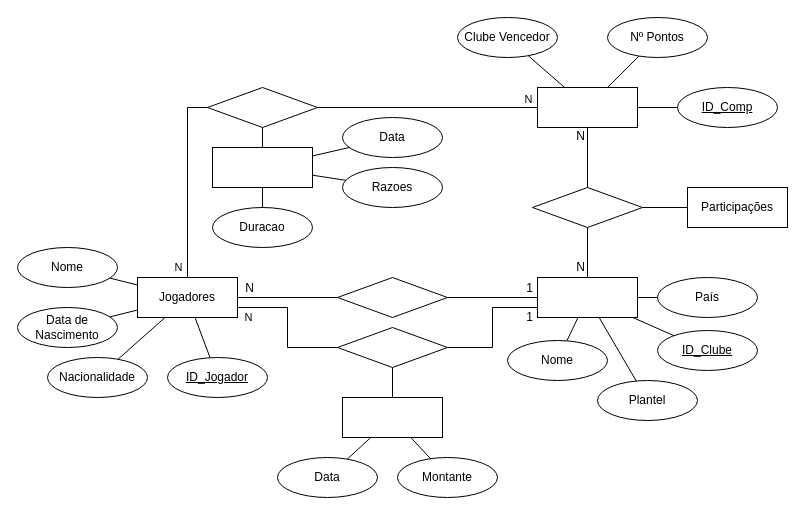
This 805x515 diagram has some shape labels left out. The shapes that lost their labels are listed below. From the top down, each one's centre as x and y in pixels, then its label:
At pixel 262 107: "Castigar".
At pixel 587 107: "Competições".
At pixel 262 167: "Jogadores Castigados".
At pixel 587 207: "Participar".
At pixel 392 297: "Pertencer".
At pixel 587 297: "Clubes".
At pixel 392 347: "Transferir".
At pixel 392 417: "Transferências".
